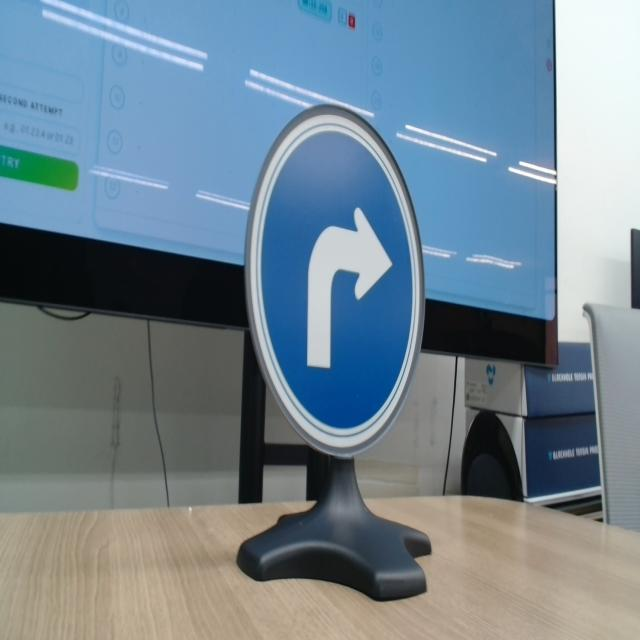right_dierection: (245, 95, 443, 466)
